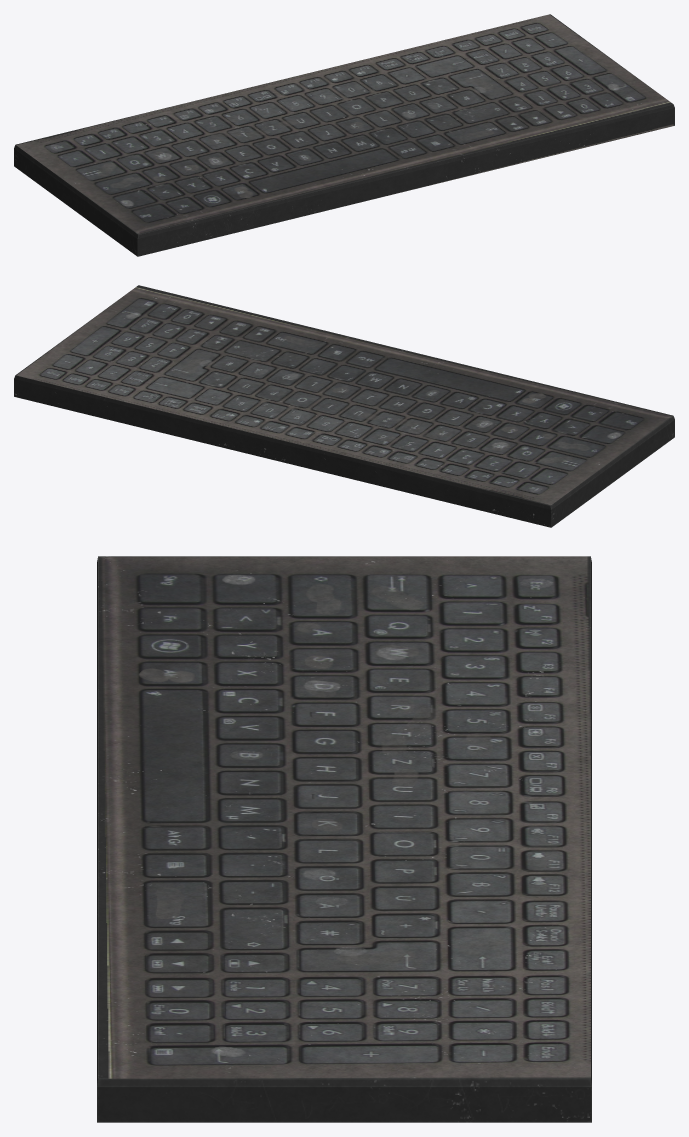
Rendered from Keyboard.fbx.
3 renders of one model, top to bottom at view 1: azimuth 30°, elevation 25°; view 2: azimuth 150°, elevation 25°; view 3: azimuth 270°, elevation 25°, orthographic. The views are drawn at different scales.
Parts seen in each view (by area): view 1: Cube; view 2: Cube; view 3: Cube.
Boxes of the visible parts, x1,y1,x2,y2 form: Cube: (14, 14, 674, 256); Cube: (14, 285, 674, 527); Cube: (97, 556, 591, 1122).
Bounding box in the file's own units: 1480 × 56.71 × 590.
1 material, 1 textured.
